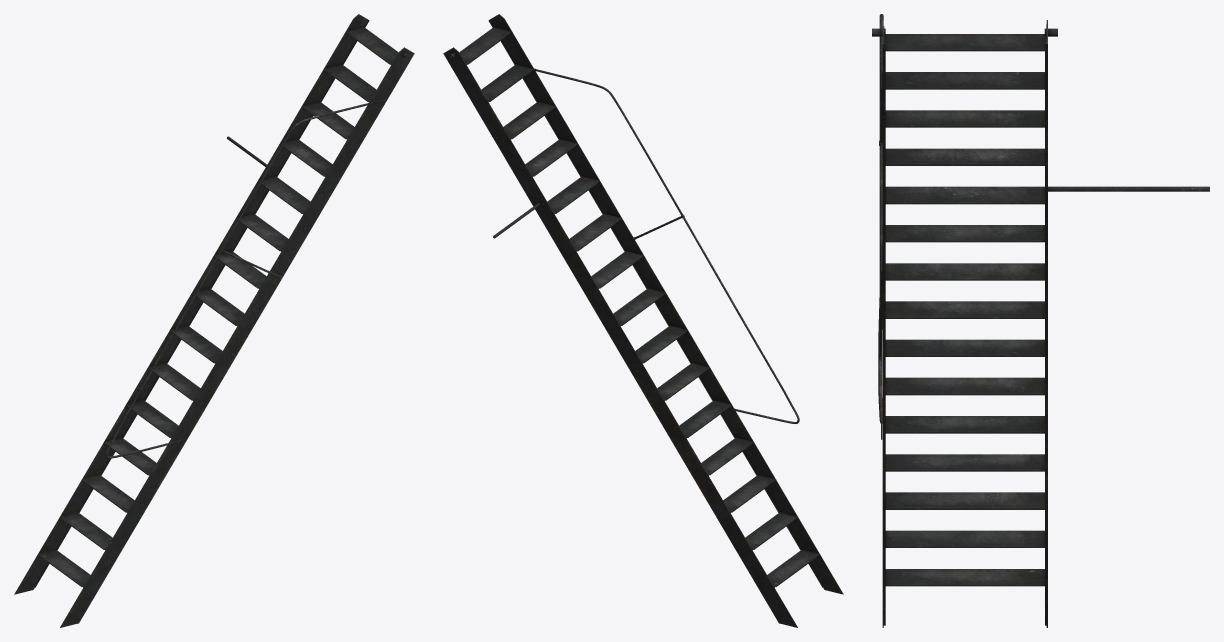
The model's file is yangin_merdiveni.gltf.
3 views of the same model, side by side, from view 1: azimuth 30°, elevation 25°; view 2: azimuth 150°, elevation 25°; view 3: azimuth 270°, elevation 25° (orthographic). The views are drawn at different scales.
Parts seen in each view (by area): view 1: yangin_merdiveni; view 2: yangin_merdiveni; view 3: yangin_merdiveni.
Boxes of the visible parts, box(x1,y1,x2,y2) form: yangin_merdiveni: box(14, 14, 414, 627); yangin_merdiveni: box(443, 14, 843, 627); yangin_merdiveni: box(872, 14, 1209, 627).
Size of what is drawn, in the model's own units: 2.99 by 4.01 by 1.37.
1 material, 1 textured.
